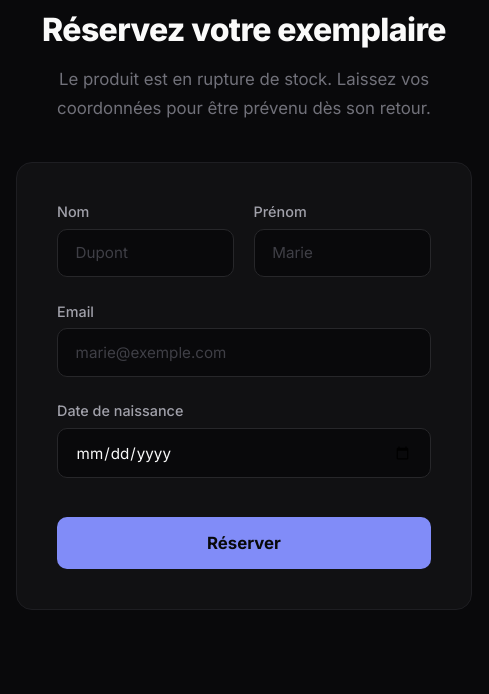
Scenario: SignupForm › efface une erreur quand le champ est modifié
This screenshot has width=489, height=694.
Click the button "Réserver".
click(244, 543)  # box [57,517,431,569]
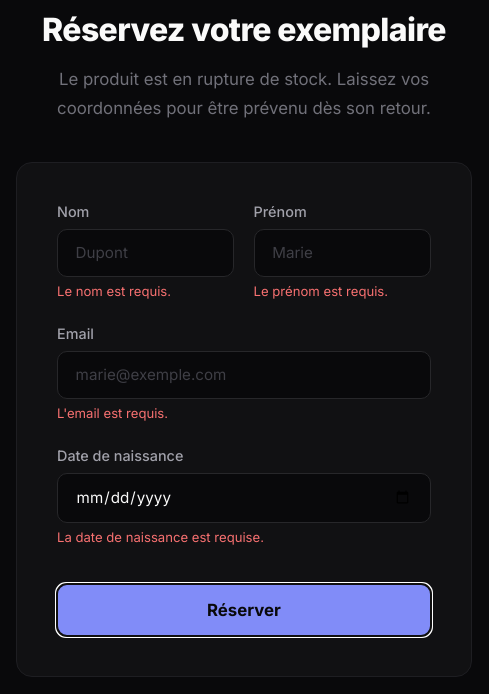
Result: the text "Le nom est requis." is shown at [57,284,171,300]
Type "D" into the field labelled "Nom".
click(146, 253); type("D")  # box [57,229,234,277]
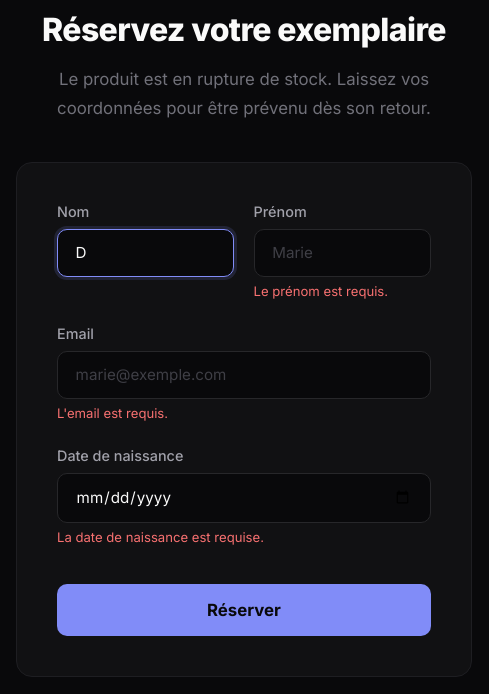
Result: the text "Le nom est requis." is gone
